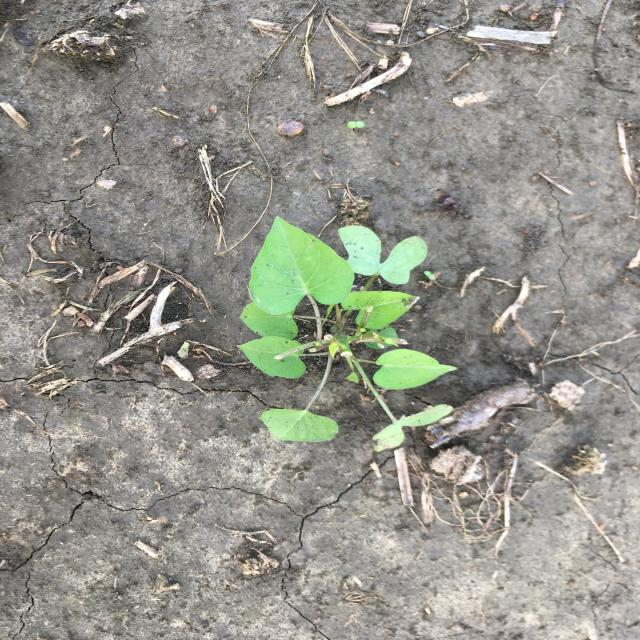MorningGlory: (233, 214, 460, 455)
